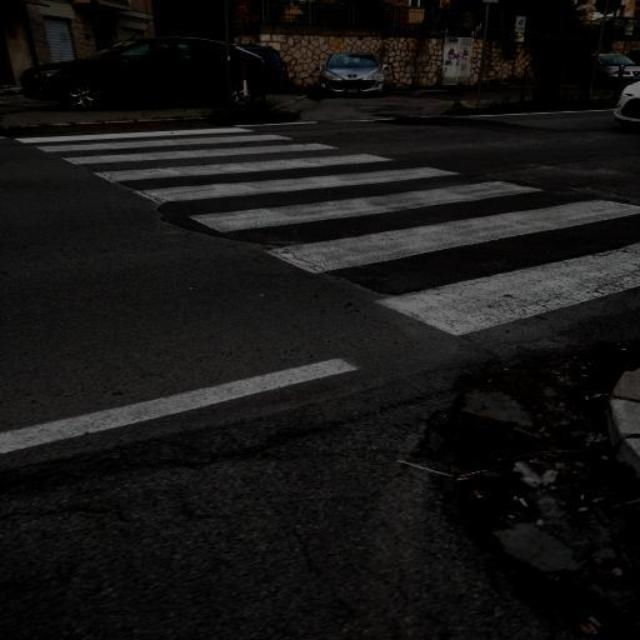sidewalk: (15, 124, 640, 338)
